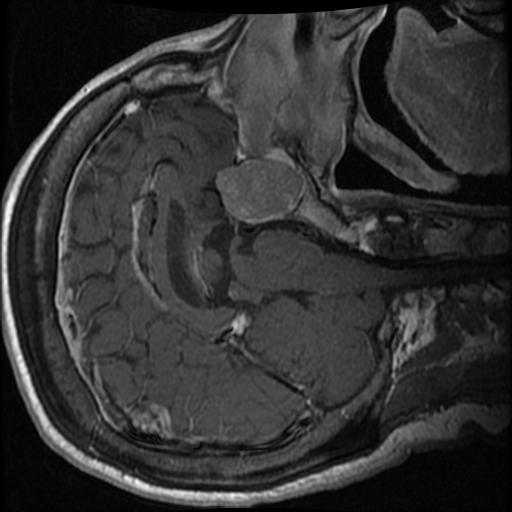pituitary tumour: (219, 162, 303, 222)
